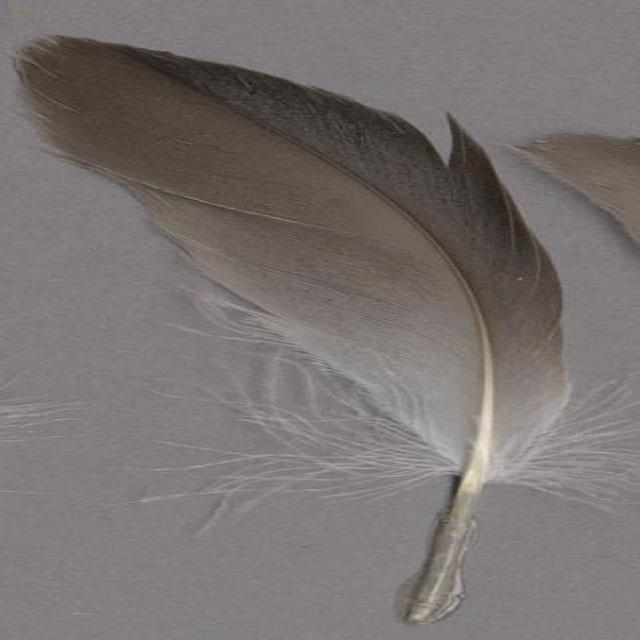feather: (3, 31, 640, 631)
